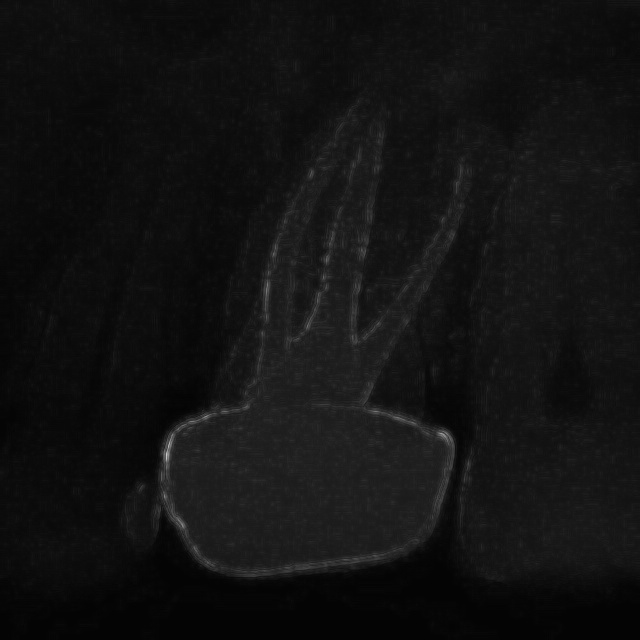Class 0- No endodontic treatment: (155, 48, 529, 601)
